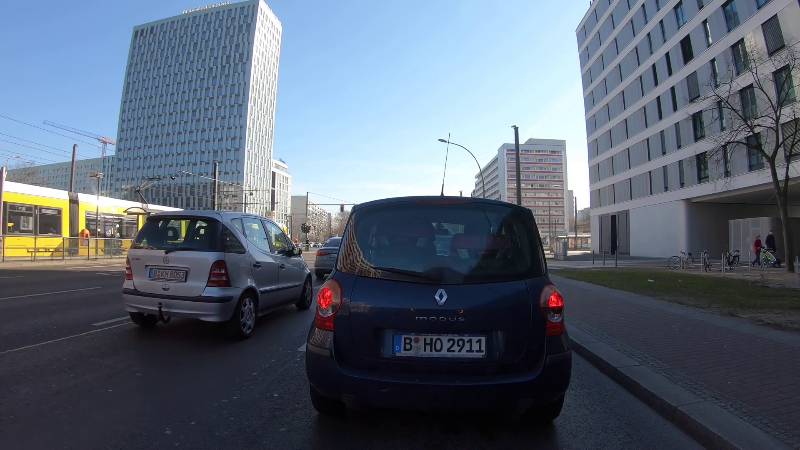Plate: (390, 331, 490, 362), (147, 268, 189, 283), (328, 252, 337, 258)
